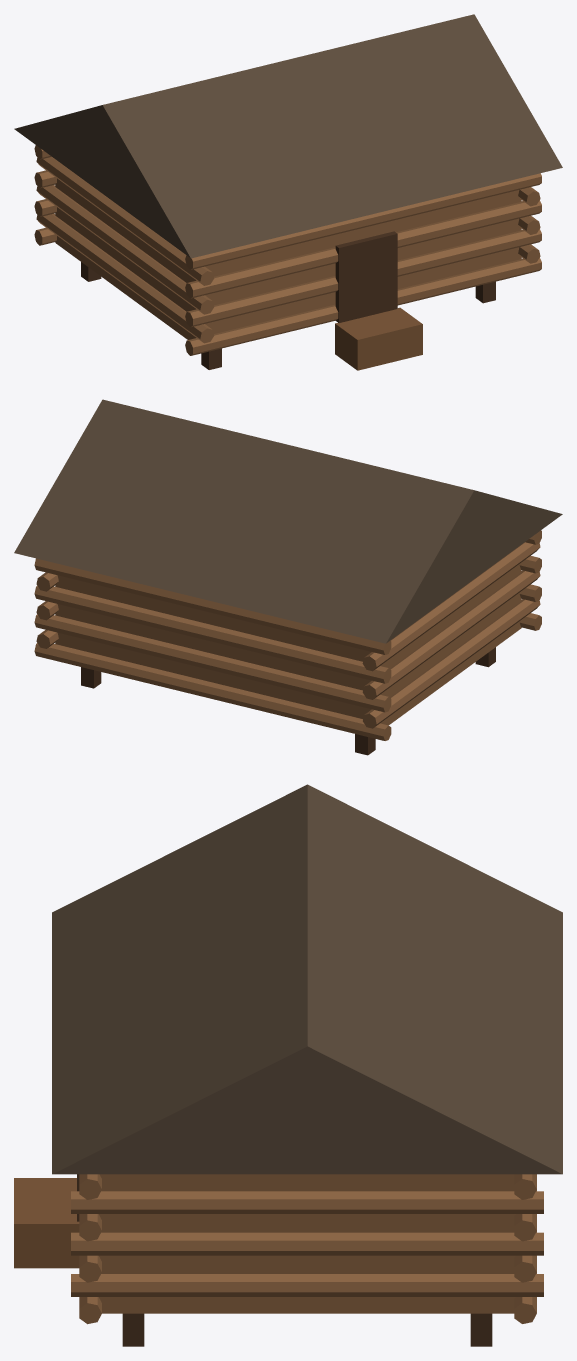
The model's file is granary.glb.
The picture shows the model from 3 angles, top to bottom: view 1: azimuth 30°, elevation 25°; view 2: azimuth 150°, elevation 25°; view 3: azimuth 270°, elevation 25°; orthographic projection. The views are drawn at different scales.
Visible parts, largest first — view 1: Granary; view 2: Granary; view 3: Granary.
Boxes of the visible parts, x1,y1,x2,y2 form: Granary: (14, 14, 562, 370); Granary: (14, 399, 562, 755); Granary: (14, 784, 562, 1346).
Bounding box in the file's own units: 11.4 × 6.7 × 10.1.
